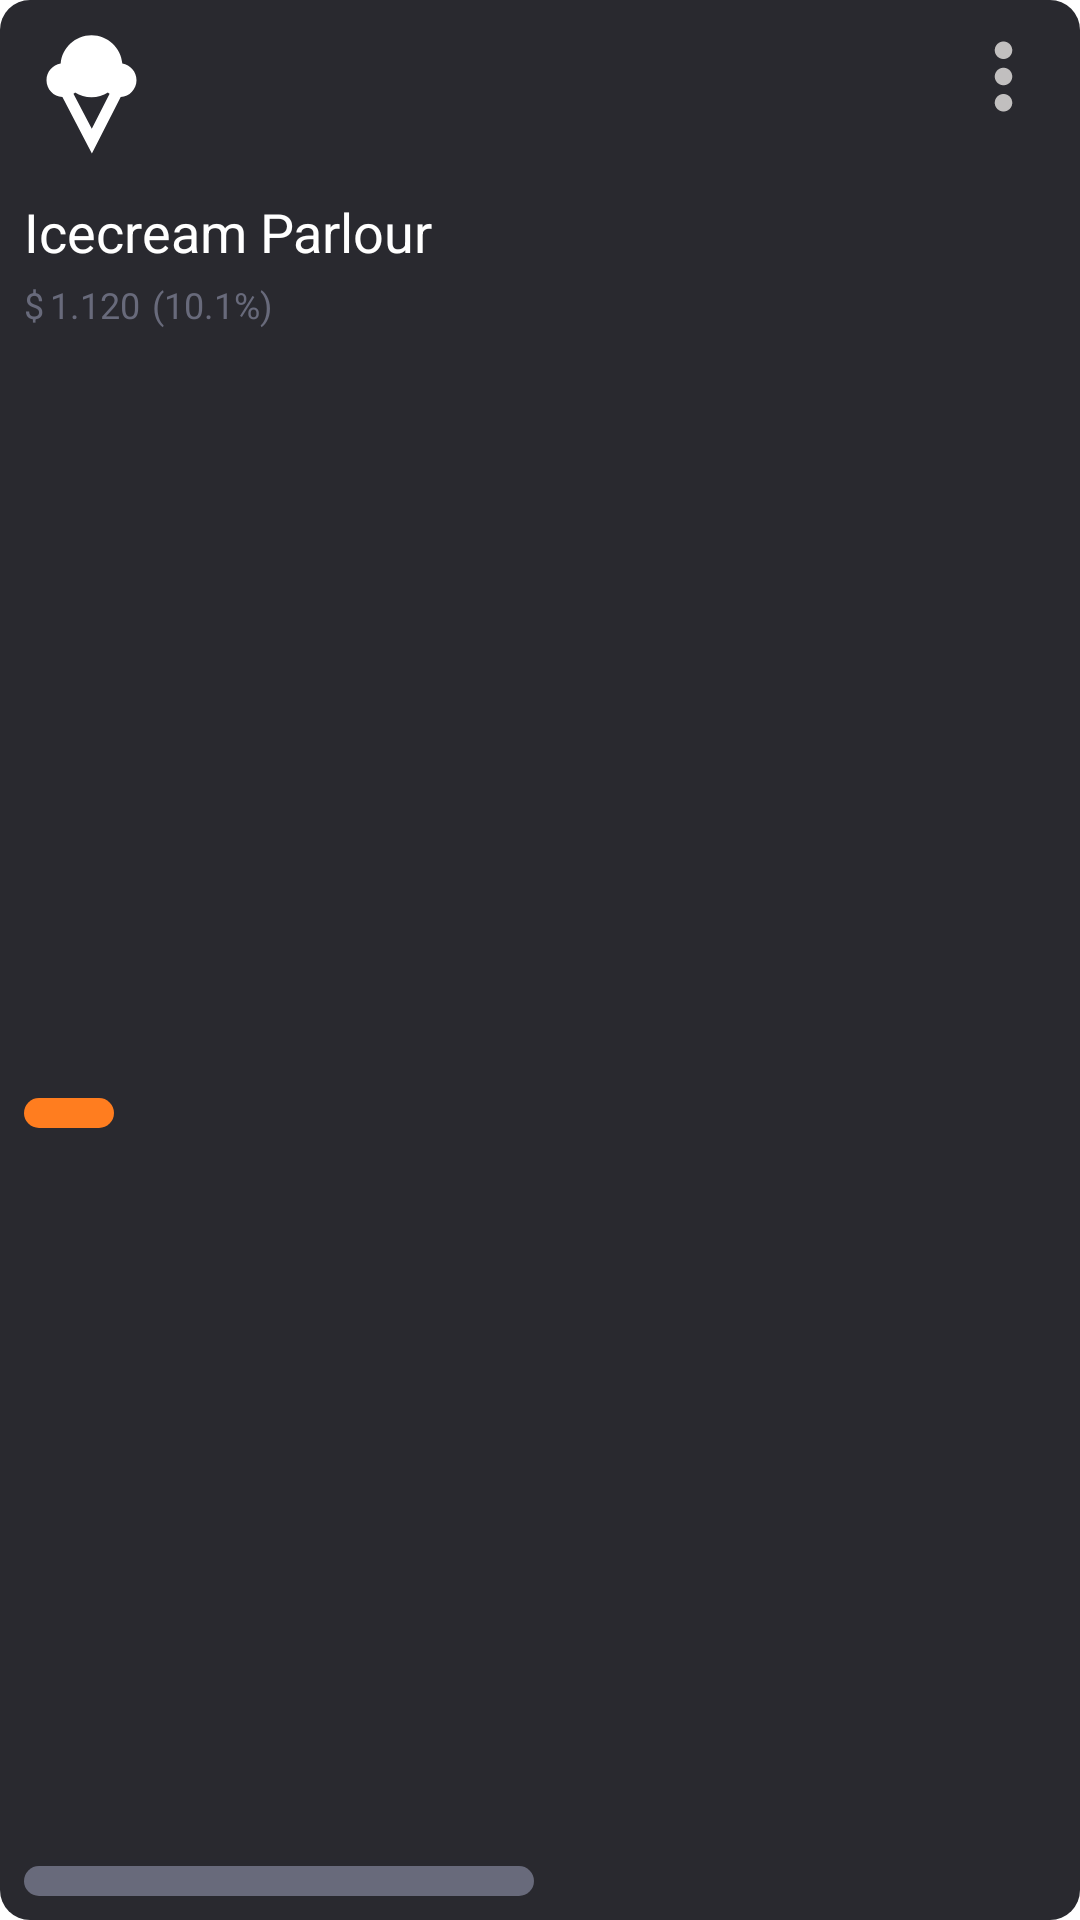

Where icons sit on this 1080w x 1920h app screen, as (left=x1, top=y1, right=x2, bottom=y2):
more vert: (left=994, top=41, right=1013, bottom=112)
